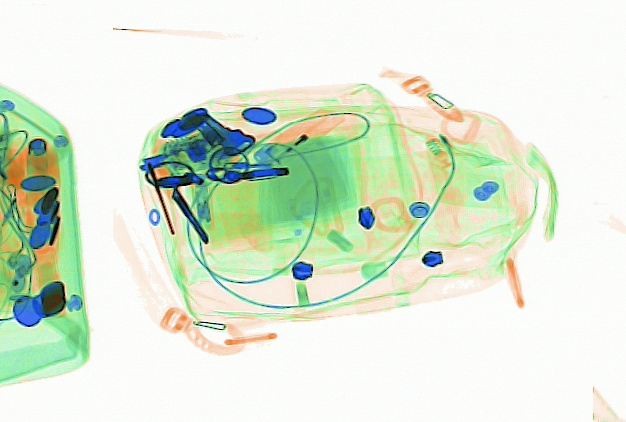lighter: (252, 105, 349, 166)
